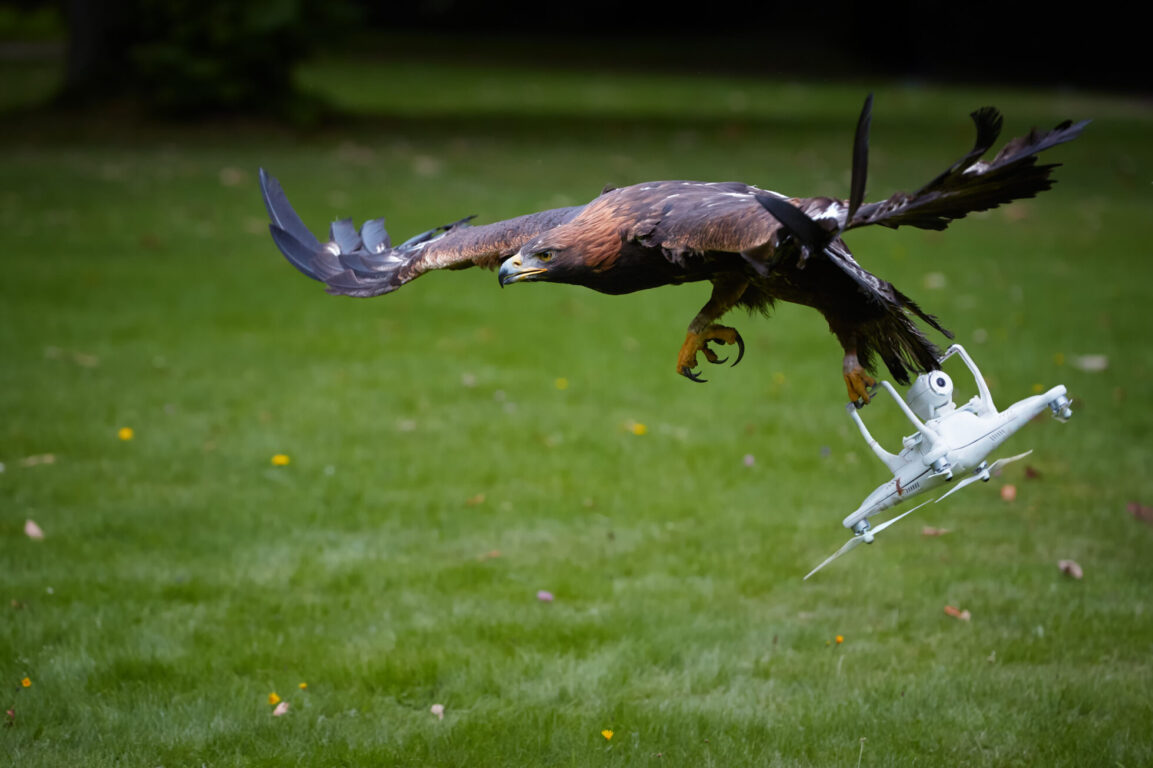Bird: (251, 88, 1100, 406)
Drone: (805, 334, 1094, 583)
